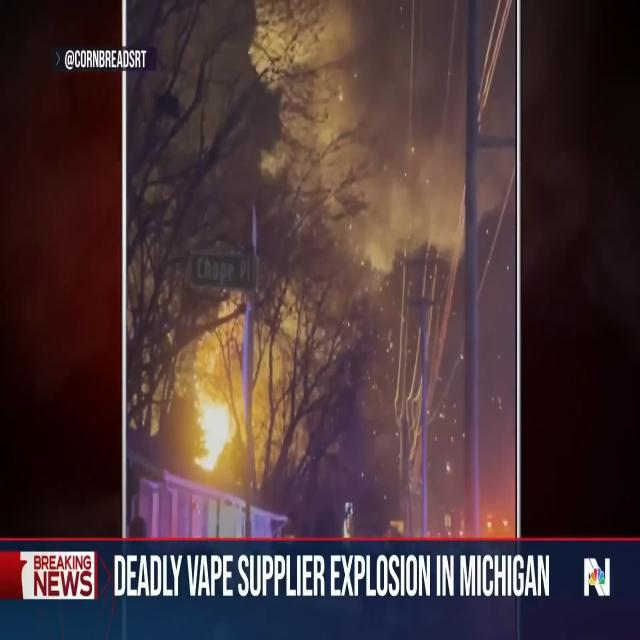fire: (171, 300, 276, 484)
